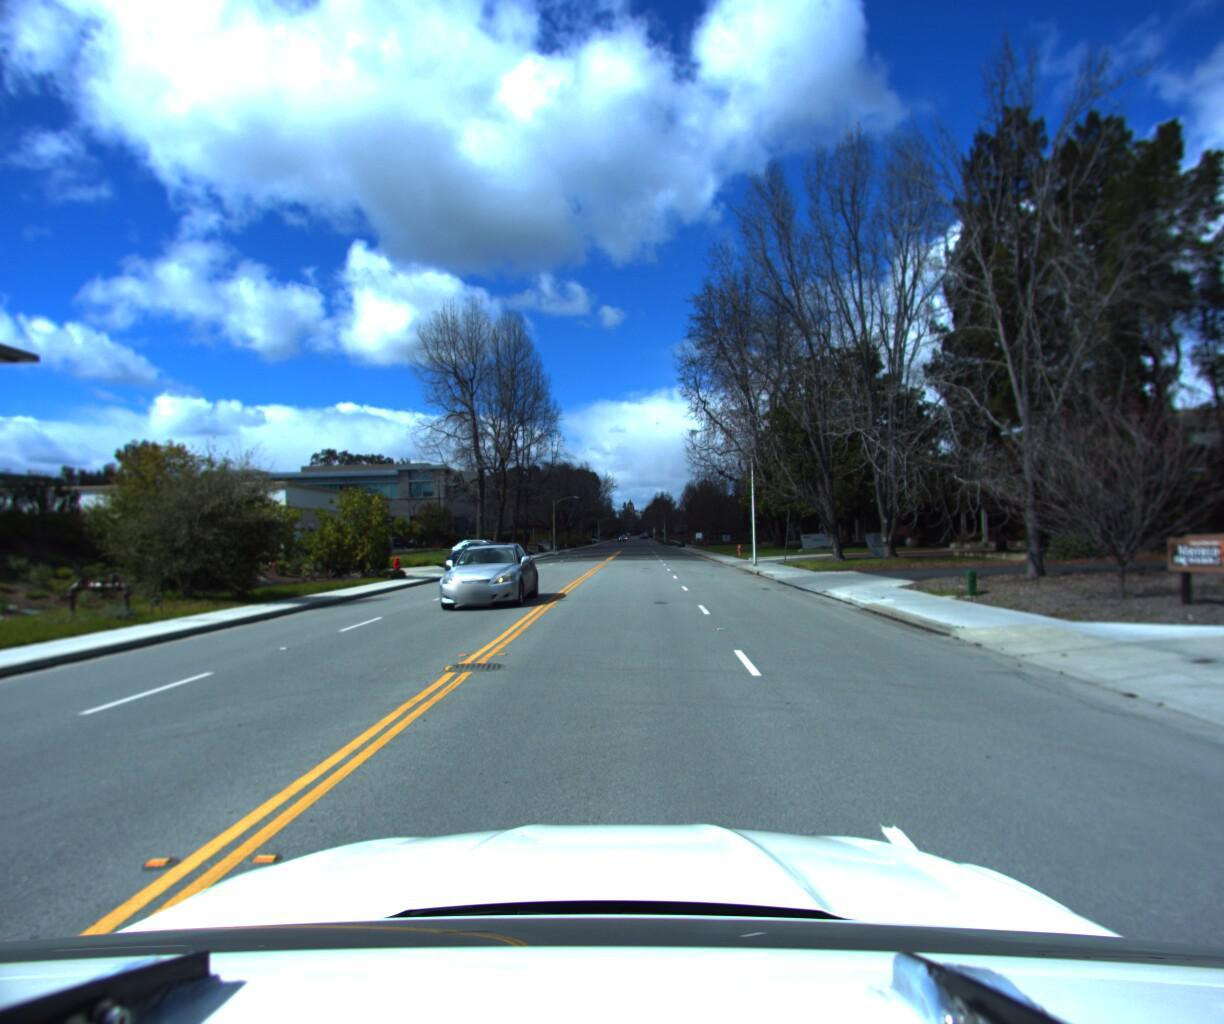car: (424, 543, 542, 616), (447, 538, 527, 567)
